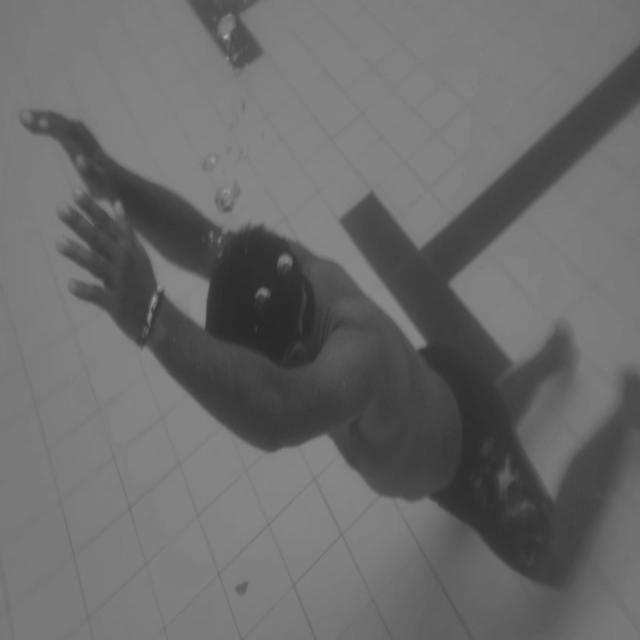drowning: (5, 96, 597, 615)
